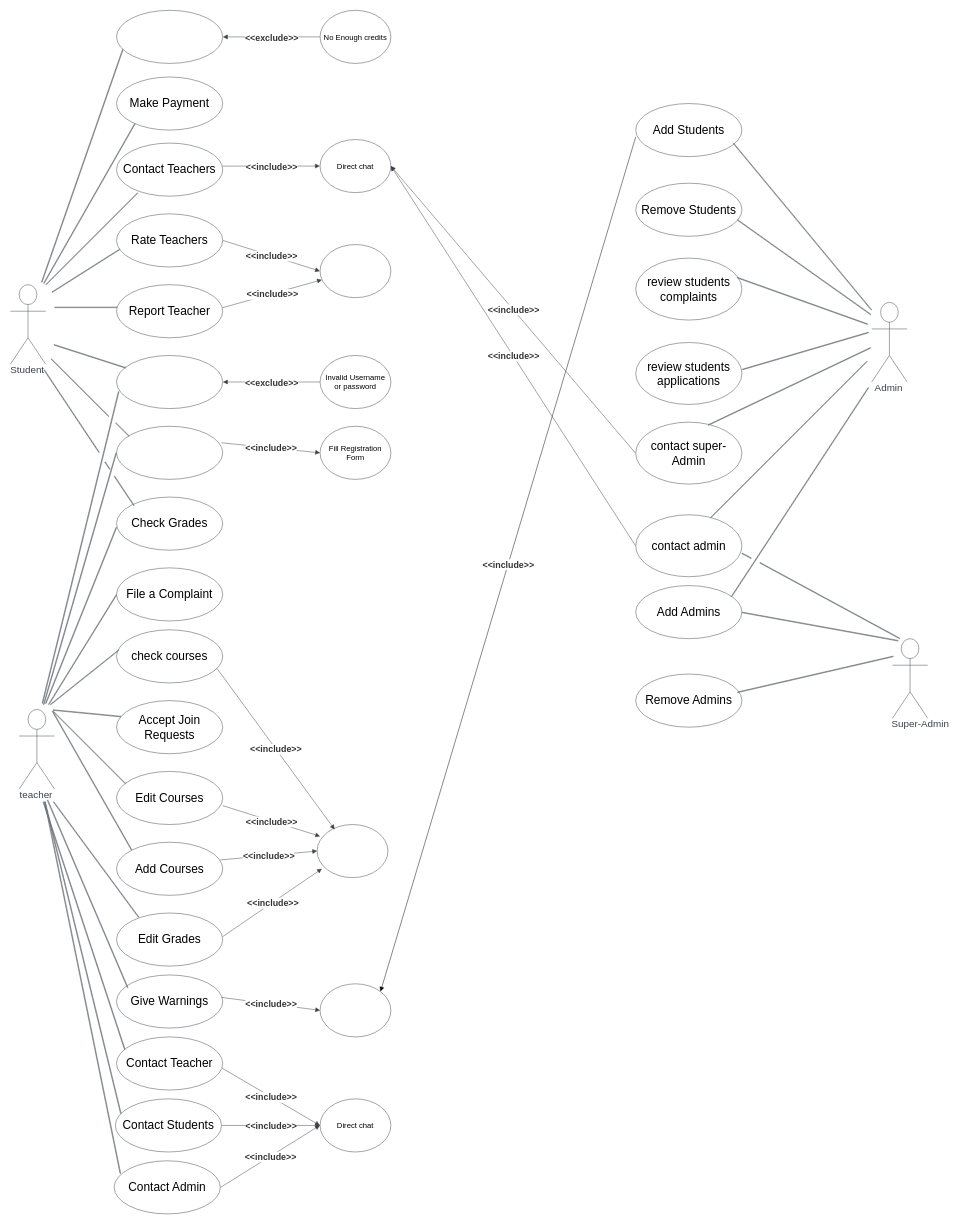
Some shapes in this 959 by 1224 pixel diagram are drawn without their labels. Here are the shapes that lost their labels. From the top down, the centre of each, then its label:
At point (169, 36): "Register Courses".
At point (355, 271): "Fill Feedback Form".
At point (169, 382): "Authentication".
At point (169, 452): "Register".
At point (352, 851): "Manage Courses".
At point (355, 1010): "Fill A Forum".
